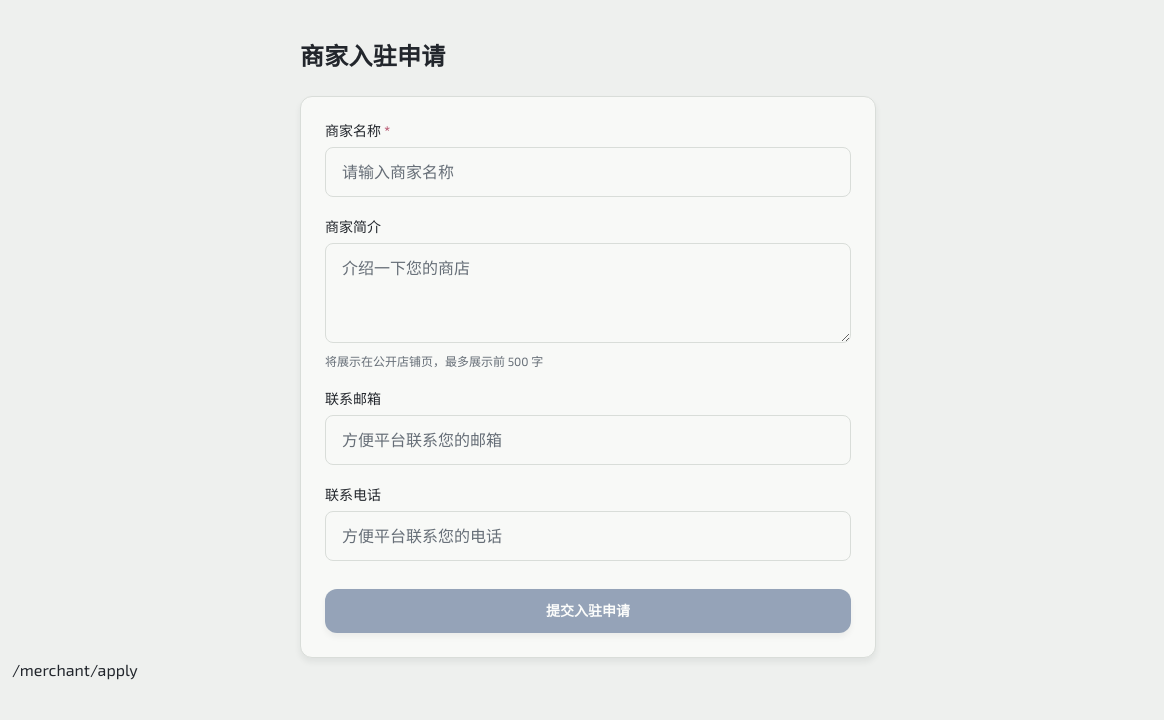
it: blocks repeated submission and preserves failed input for retry
Type "  提交的商家名  " into the field labelled "商家名称 *".
click(588, 172); type("  提交的商家名  ")  # box [325, 147, 851, 197]
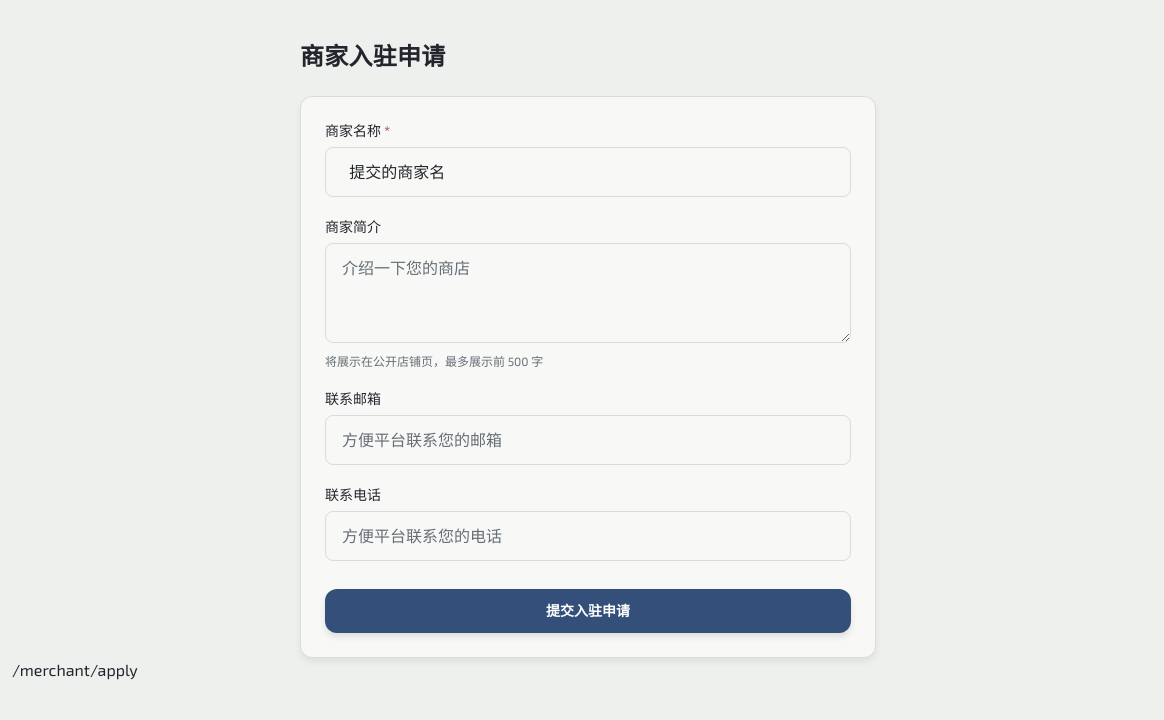
Type "private@example.test" into the field labelled "联系邮箱".
click(588, 440); type("private@example.test")  # box [325, 415, 851, 465]
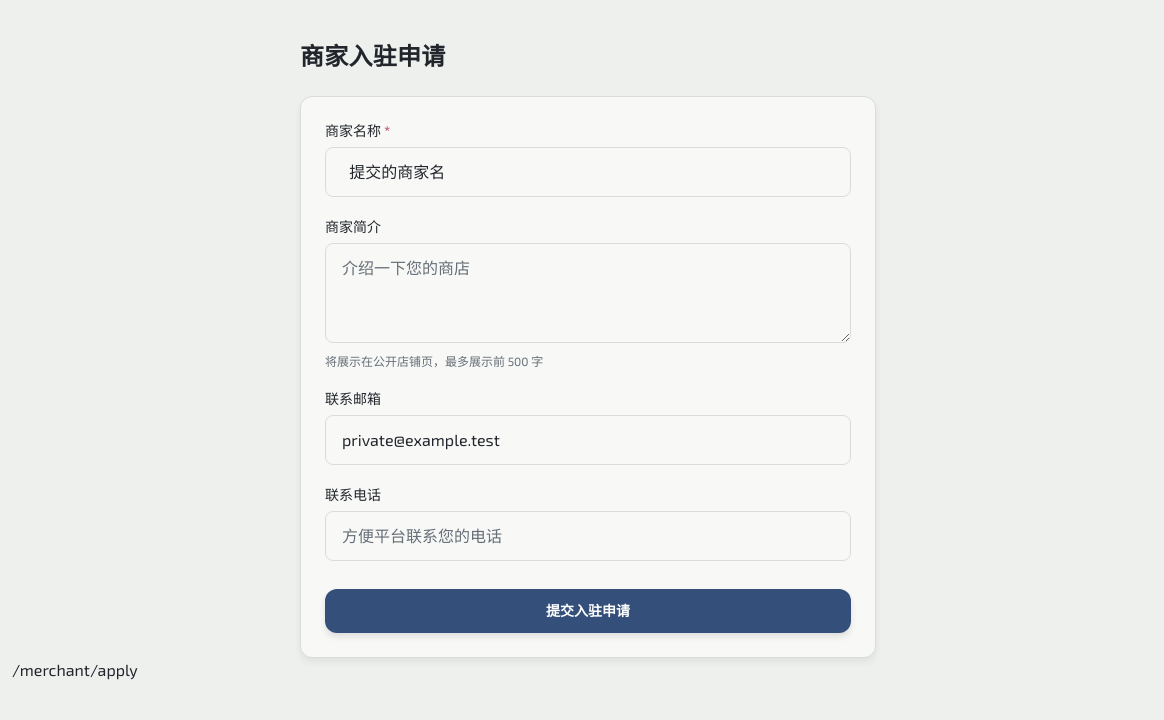
Click the button "提交入驻申请".
click(588, 611)  # box [325, 589, 851, 633]
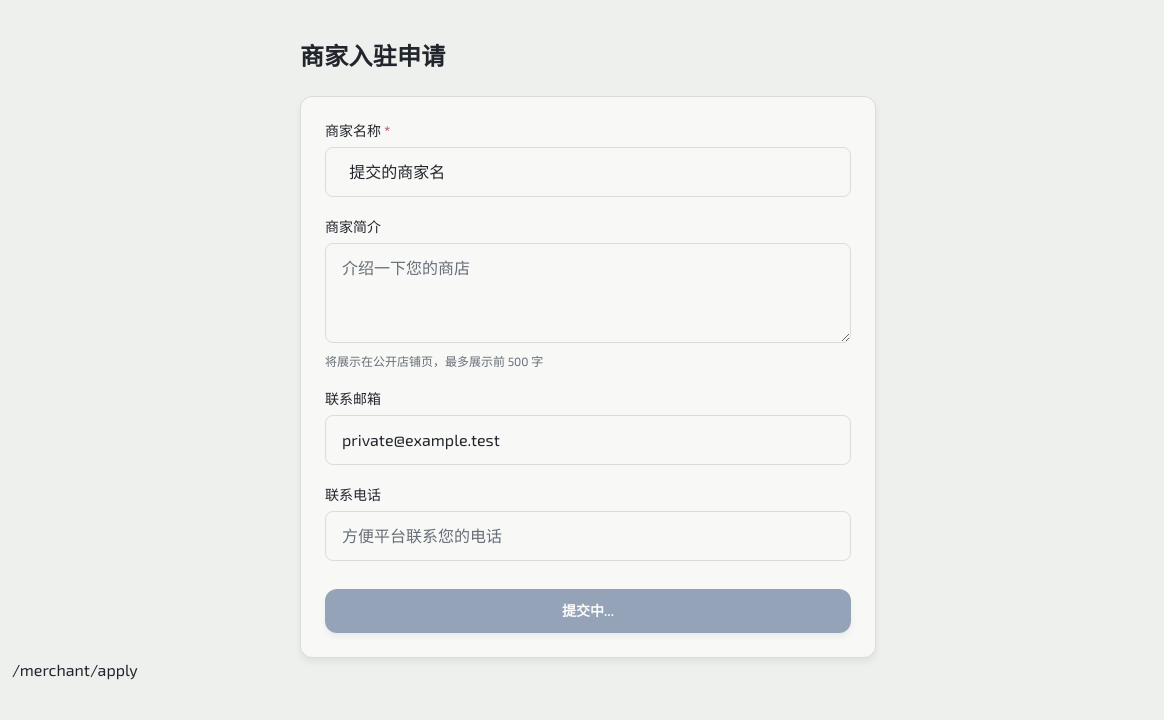
Submit the form labelled "商家名称 * 商家简介 将展示在公开店铺页，最多展示前 500 字 联系邮箱 联系电话 提交中...", box [300, 96, 876, 658]
(page scrolled)
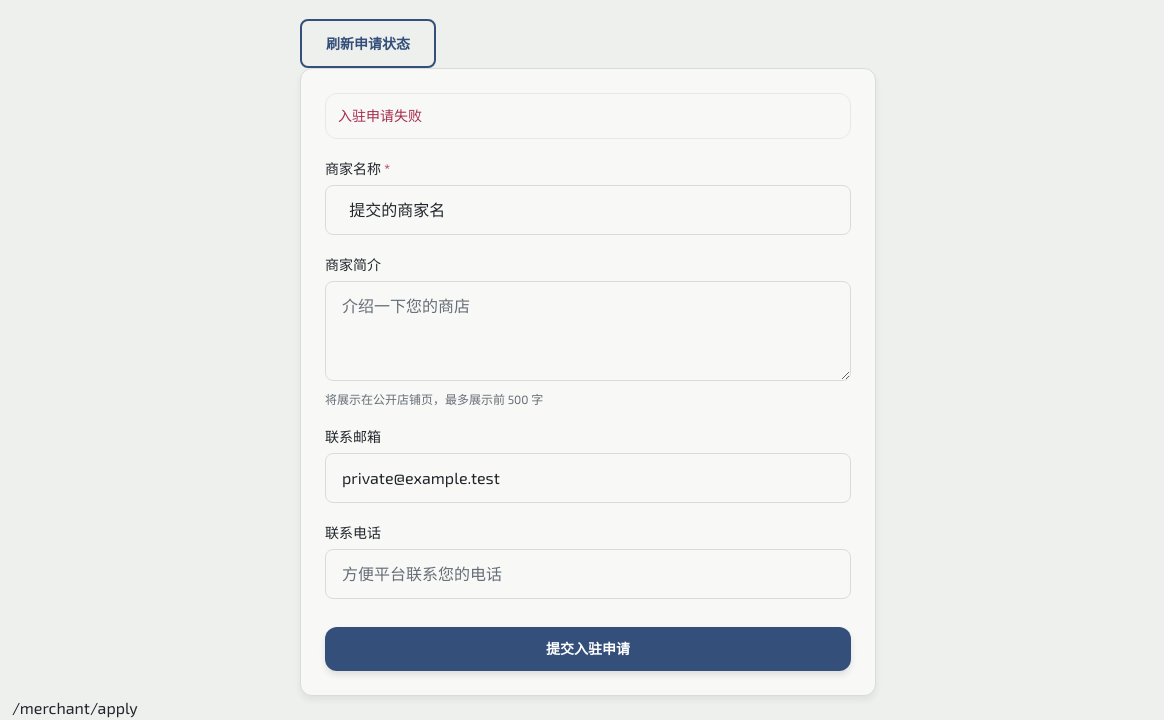
Check: the message reads "入驻申请失败", box [338, 107, 422, 124]
Submit the form labelled "入驻申请失败 商家名称 * 商家简介 将展示在公开店铺页，最多展示前 500 字 联系邮箱 联系电话 提交入驻申请", box [300, 68, 876, 696]
(page scrolled)
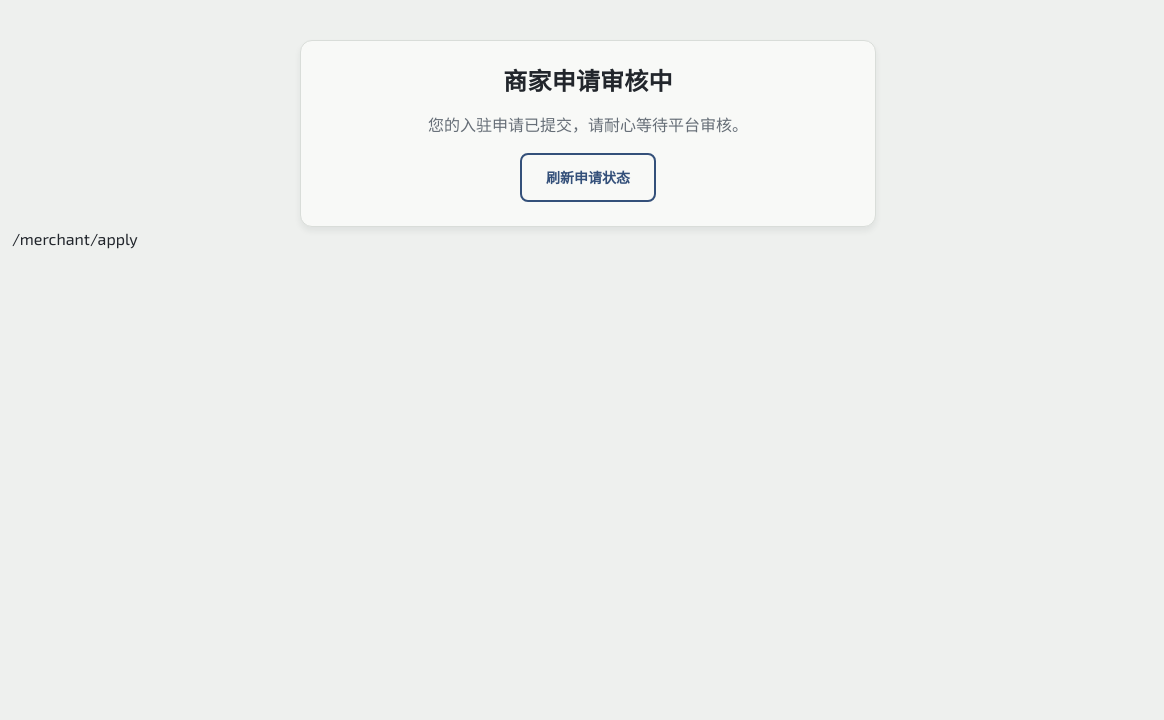
Check: the heading "商家申请审核中" is shown, box [503, 66, 673, 96]
